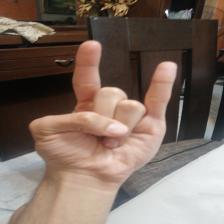five: (29, 42, 164, 160)
